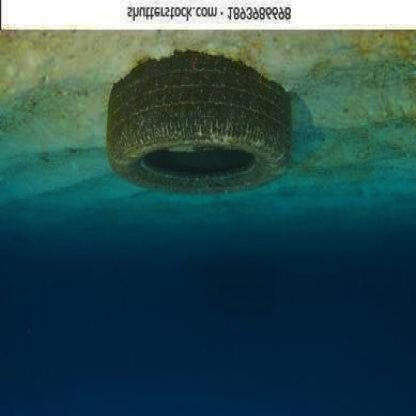tire: (105, 54, 291, 216)
